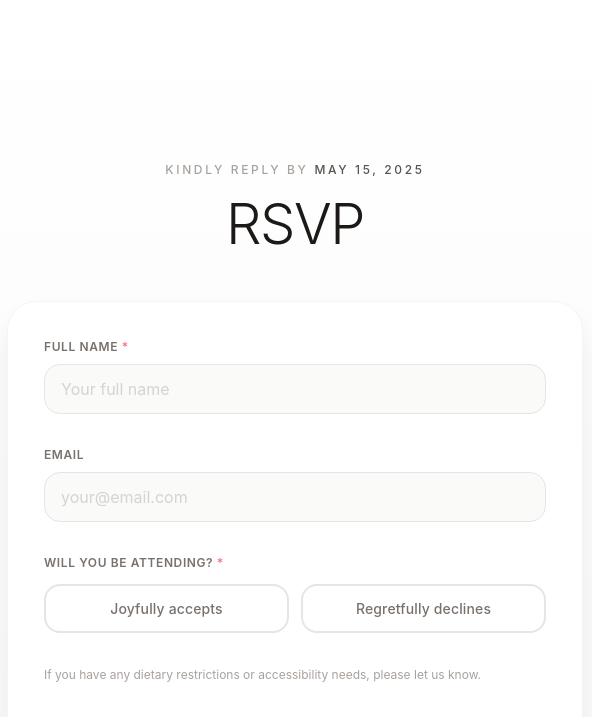
Scenario: RsvpMultiEvent › shows guest-safe submit copy when embedded event RSVP save fails
Type "Taylor Guest" into the field with placeholder "Your full name" at (295, 389), box [44,364,546,414]
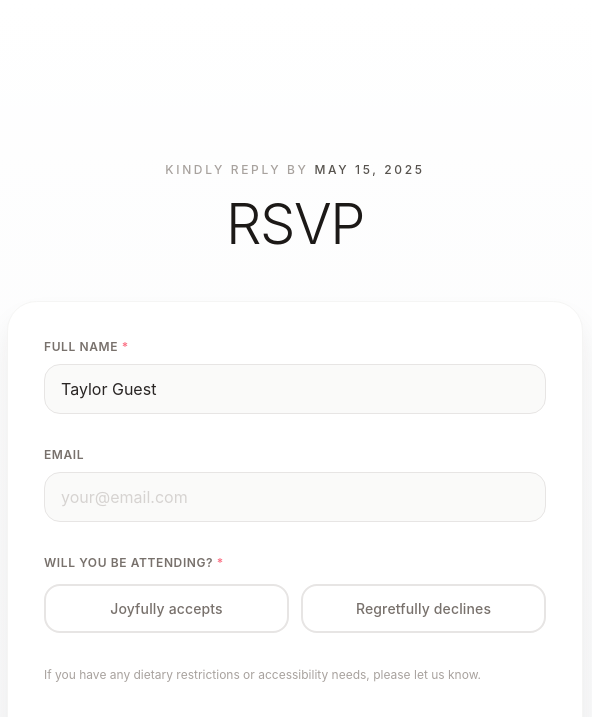
Click the button "Joyfully accepts" at (166, 609), box [44,584,289,633]
(page scrolled)
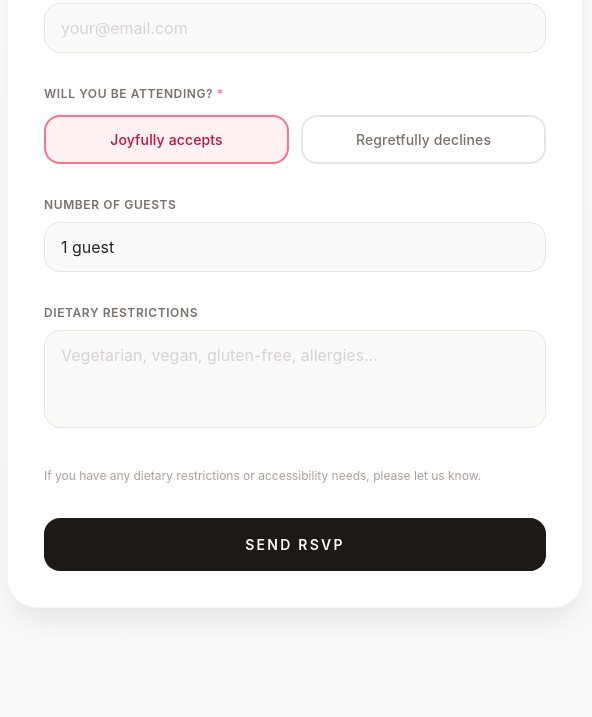
Click the button "Send RSVP" at (295, 544), box [44,518,546,571]
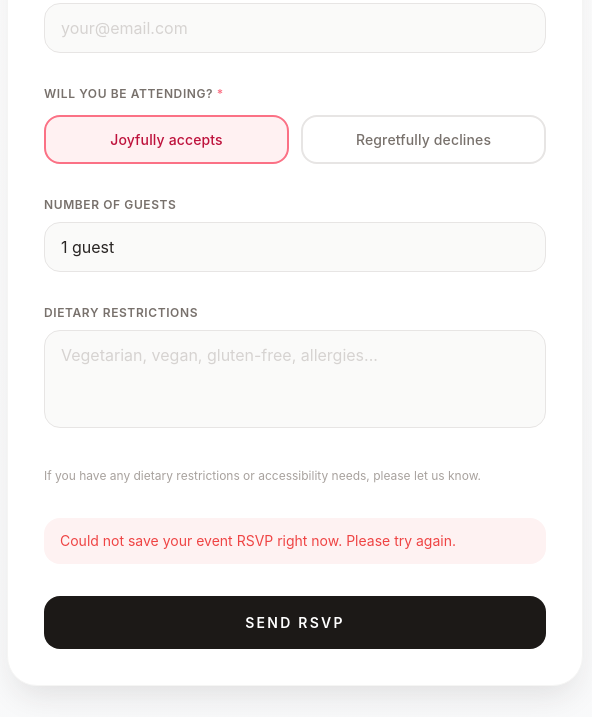
Check: the text "Could not save your event RSVP right now. Please try again." is shown, box [44,518,546,564]
